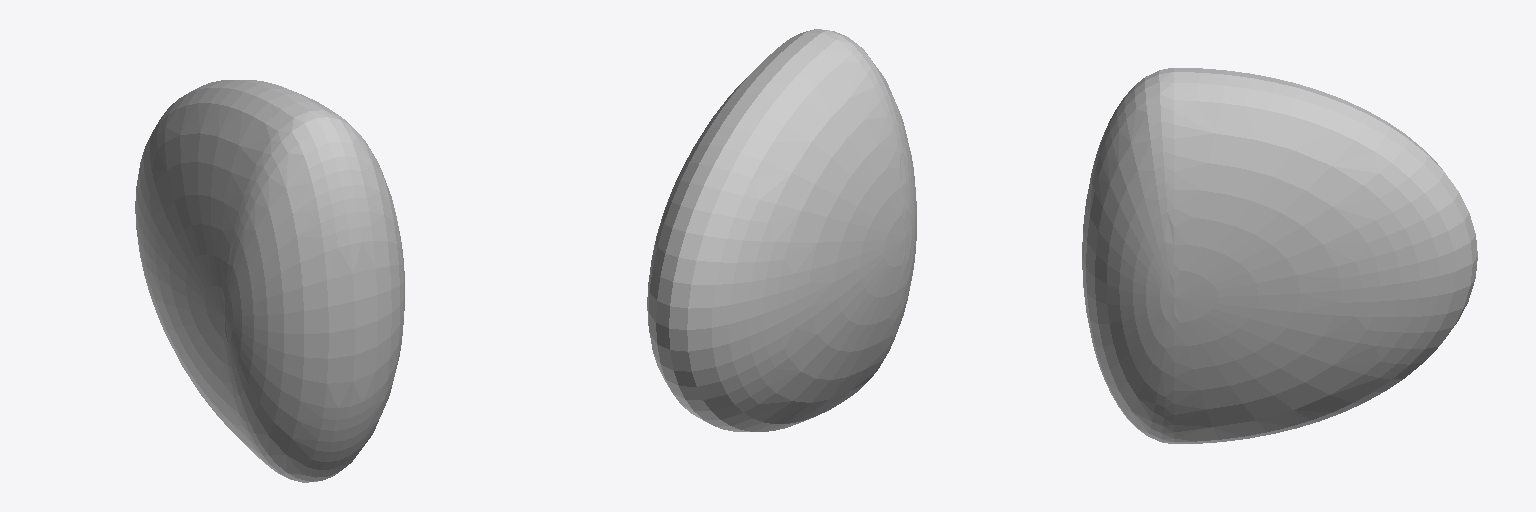
The model's file is BODY_T8.obj.
3 renders of one model, left to right at view 1: azimuth 30°, elevation 25°; view 2: azimuth 150°, elevation 25°; view 3: azimuth 270°, elevation 25°, orthographic.
Size of the model in its own units: 0.1695 by 0.3533 by 0.3445.